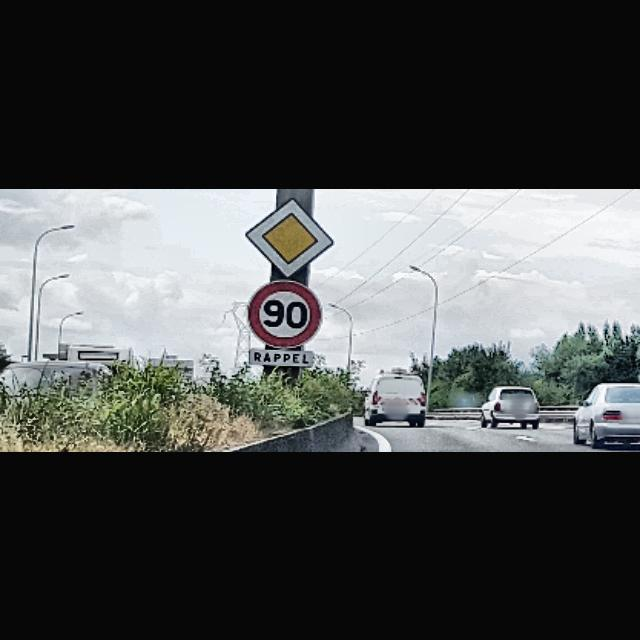speed_90: (246, 278, 324, 349)
